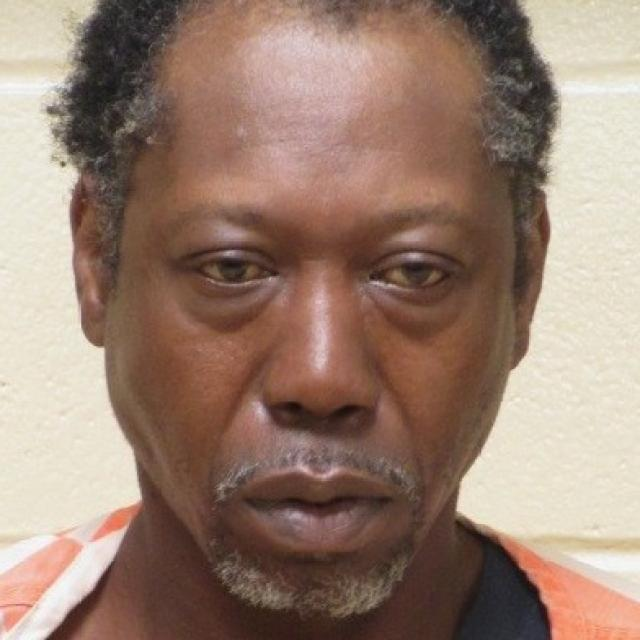Depress: (103, 15, 524, 617)
